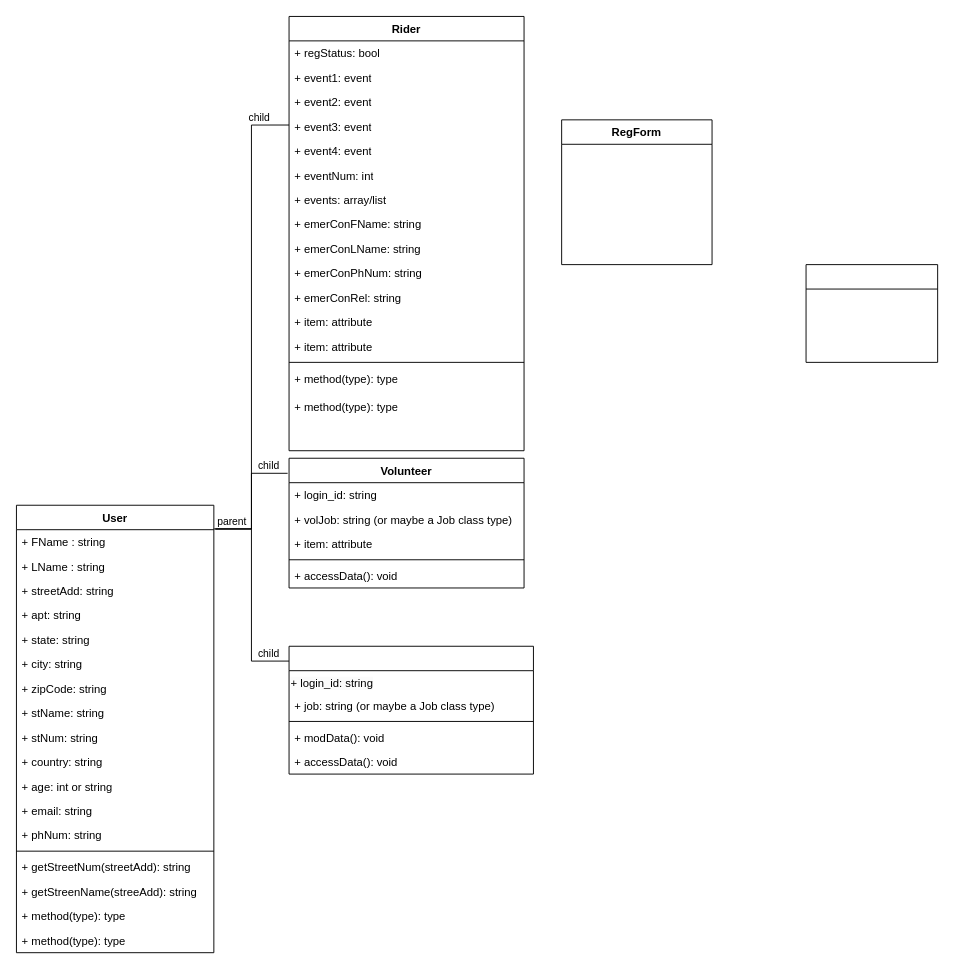
Some shapes in this 954 by 972 pixel diagram are drawn without their labels. The box of each missing label's shape, as (x1, y1, x2, y2) in pixels:
Administrator: (288, 645, 533, 774)
Classname: (805, 264, 938, 362)
